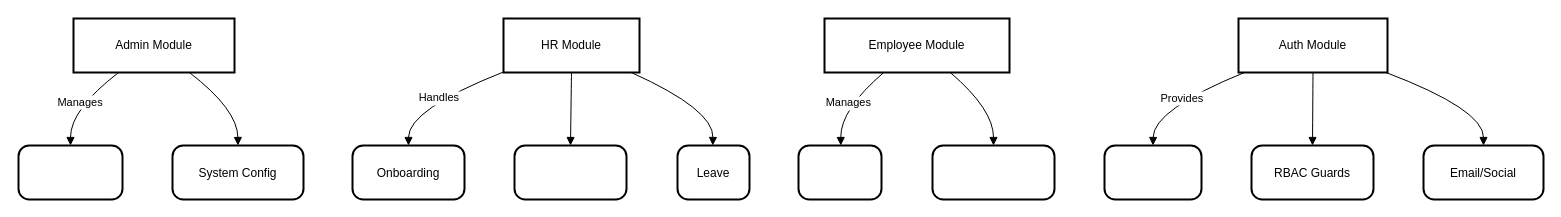
Some shapes in this 1561 by 217 pixel diagram are drawn without their labels. The centre of each missing label's shape, as x and y in pixels:
"Attendance" goes at (x=570, y=172).
"Departments" goes at (x=993, y=172).
"JWT Auth" goes at (x=1152, y=172).
"Profiles" goes at (x=839, y=172).
"User Roles" goes at (x=70, y=172).
